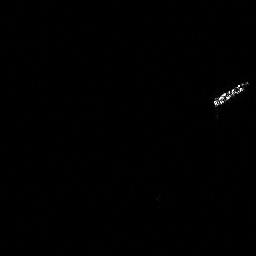ship: (213, 83, 245, 105)
